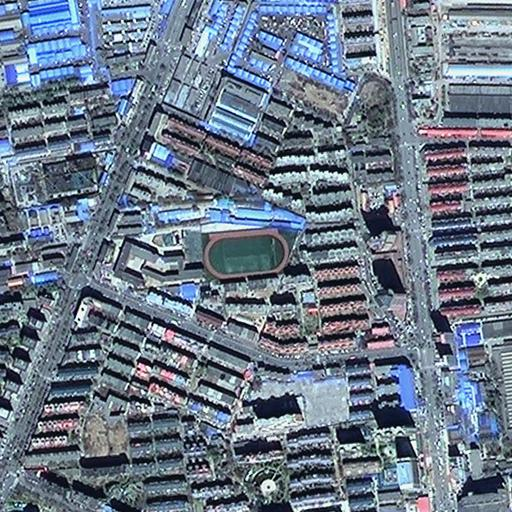school: (110, 219, 294, 287)
